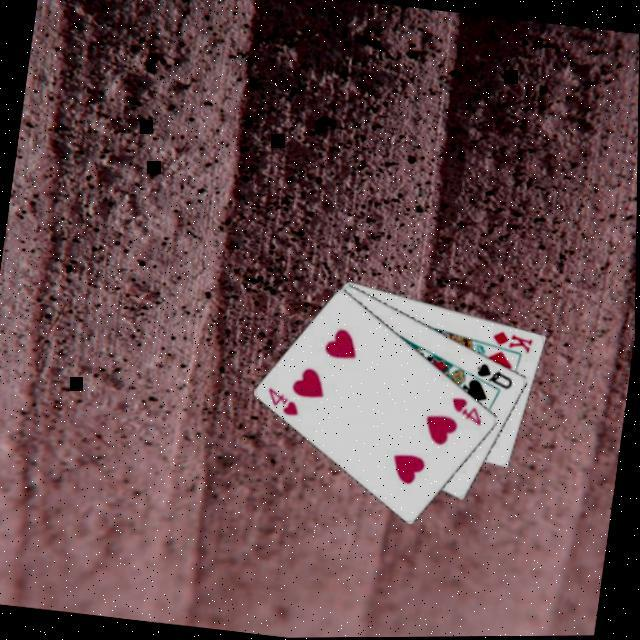4H: (261, 384, 304, 421), (446, 394, 488, 431)
KD: (488, 328, 536, 358)
QS: (472, 359, 516, 394)
